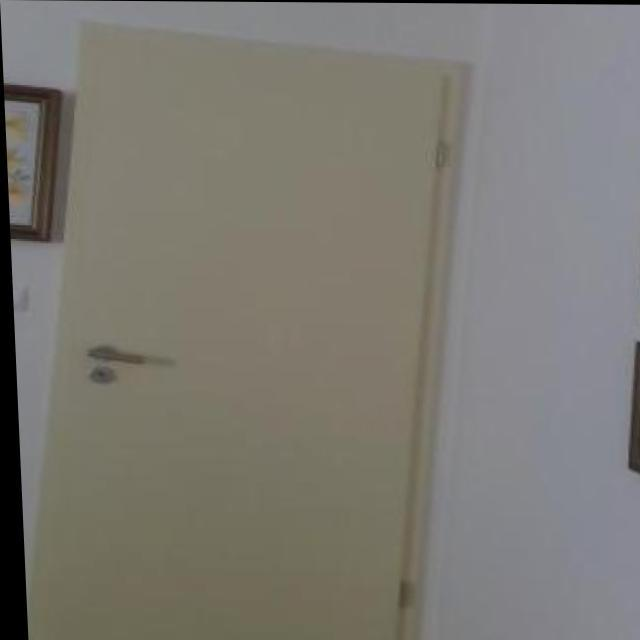door_handle: (67, 336, 156, 374)
